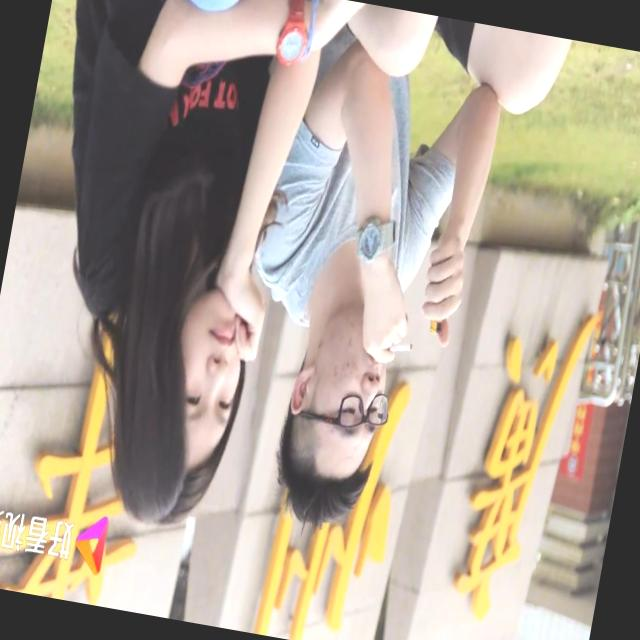smoke: (382, 329, 419, 364)
